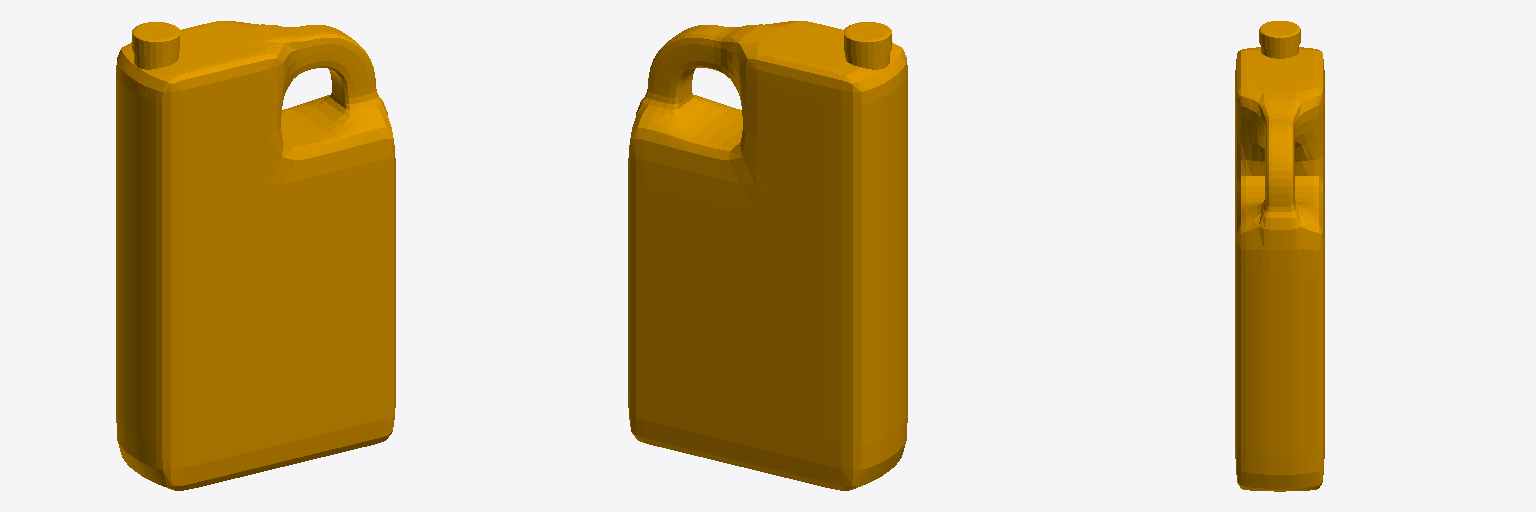
The robot description file, URDF, robot "jug":
<robot name="jug">
  <link name="jug">
    <inertial>
      <origin xyz="0 0 0.0145"/>
      <mass value="0.1" />
      <inertia  ixx="0.0001" ixy="0.0"  ixz="0.0"  iyy="0.0001"  iyz="0.0"  izz="0.0001" />
    </inertial>
    <visual>
      <origin xyz="0 0 0.0145"/>
      <geometry>        
     <mesh filename="jug.dae" scale="1 1 1"/>
    </geometry>
    </visual>
    <collision>
      <origin xyz="0 0 0.0145"/>
      <geometry>
        <box size="0.029 0.029 0.029"/>
      </geometry>
    </collision>
  </link>
  <gazebo reference="jug">
    <material>Gazebo/Blue</material>
  </gazebo>
</robot>

--- What the picture shows (computed from the rendered views, not written in the file) ---
Views: 3 orthographic renders of the robot side by side, from view 1: azimuth 30°, elevation 25°; view 2: azimuth 150°, elevation 25°; view 3: azimuth 270°, elevation 25°.
Model jug with 1 links and 0 joints (none), rooted at jug, posed every joint at zero.
Links seen in each view (by area): view 1: jug; view 2: jug; view 3: jug.
Link boxes in pixels (x1=…): jug: x1=116, y1=21, x2=395, y2=490; jug: x1=628, y1=21, x2=907, y2=490; jug: x1=1235, y1=21, x2=1324, y2=491.
Size in the robot's own frame: 0.1859 by 0.0676 by 0.3144 metres.
Meshes: 1 distinct files referenced, 1 mesh visuals loaded (1 Collada DAE).